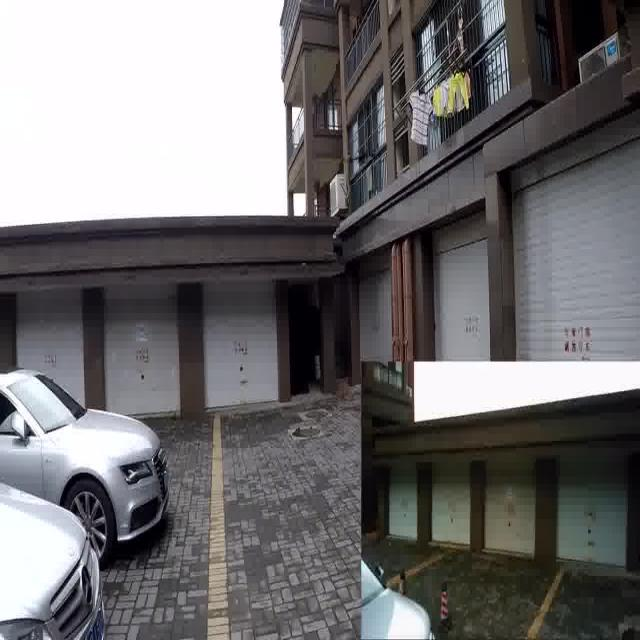drones: (339, 141, 380, 174)
